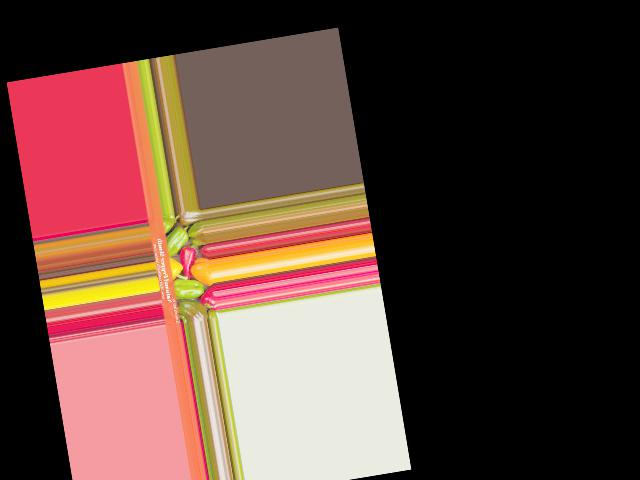bell_pepper: (176, 297, 208, 323)
